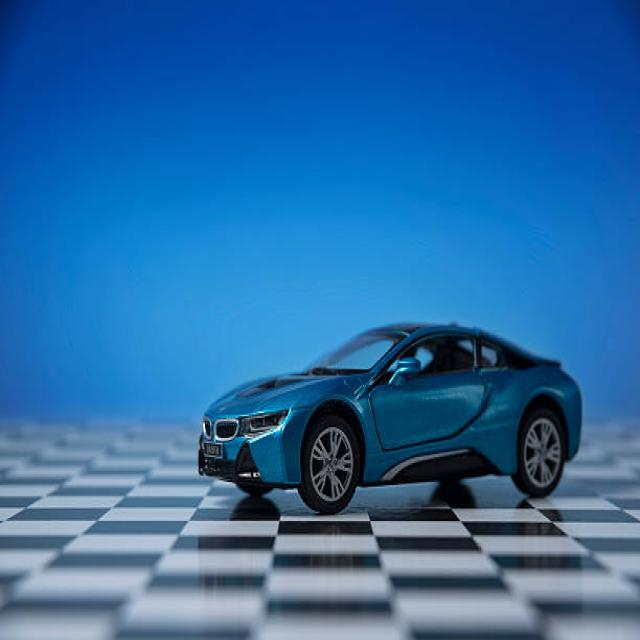Car: (199, 324, 581, 513)
